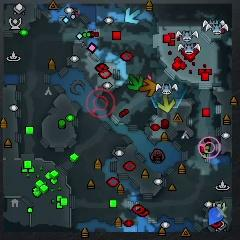Other: (198, 136, 220, 159)
p1: (205, 206, 224, 227)
x2: (158, 92, 176, 114)
x3: (124, 7, 141, 25)
x4: (125, 75, 143, 92)
x5: (140, 78, 157, 96)
